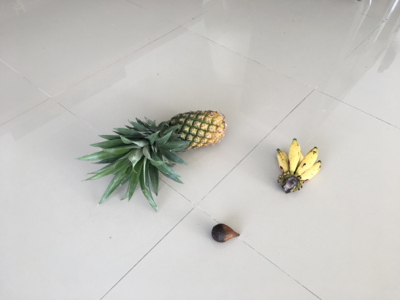banana: (276, 138, 322, 194)
pineapple: (76, 111, 226, 209)
snake fruit: (212, 224, 241, 244)
